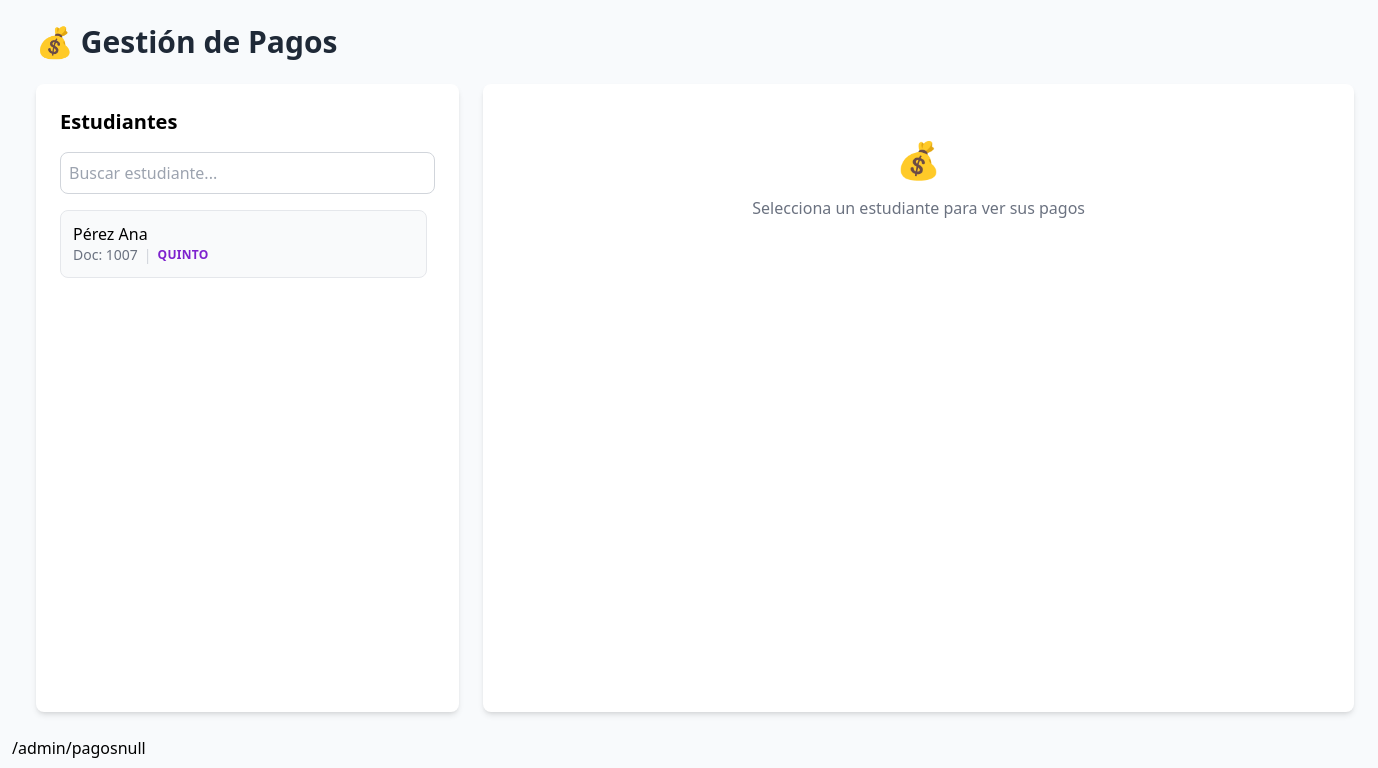
Test case: PagosAdmin - caracterización › Cobrar de una fila abre el formulario debajo de lo que debe y los valores quedan cerrados
Later steps or results of the test are not shown.
Click the text "Pérez Ana": (110, 234) [73,223,148,245]
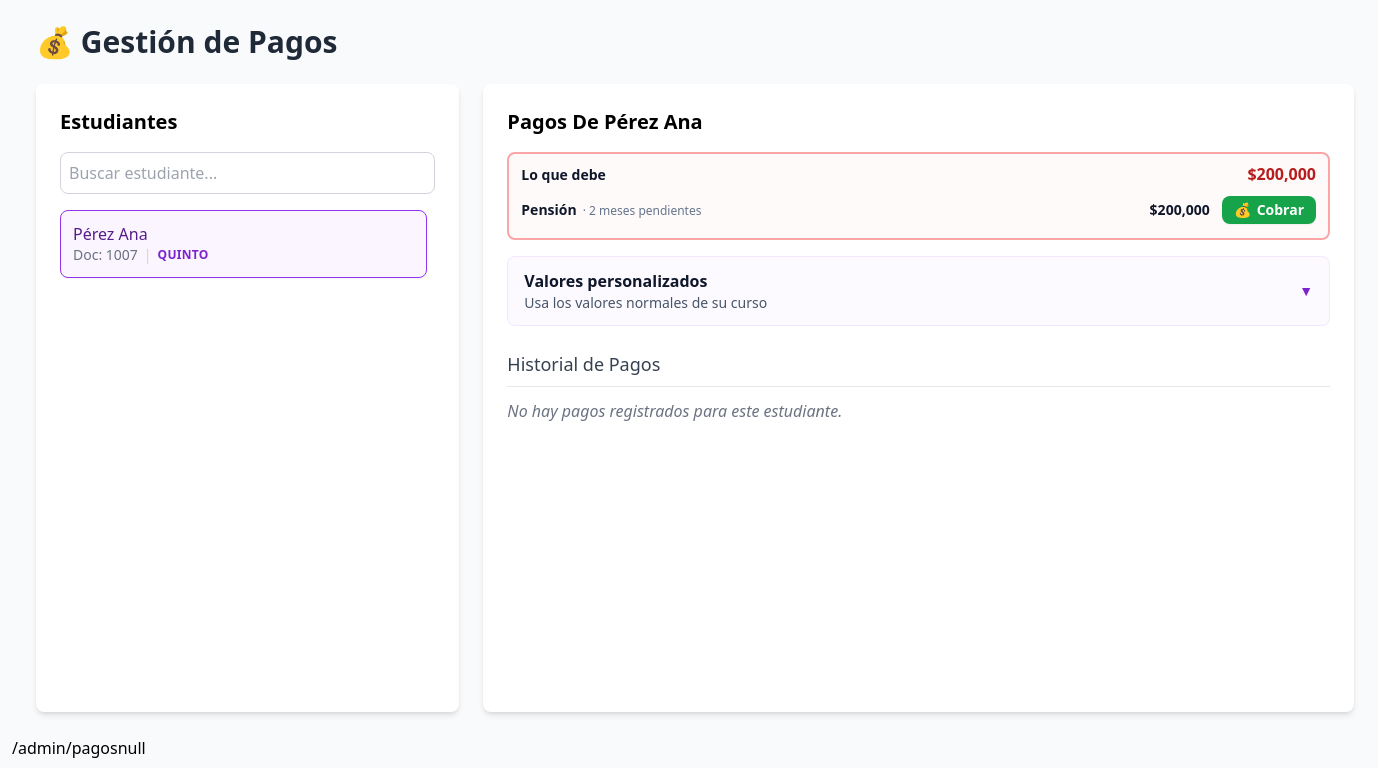
expect the button with aria-label "Cobrar Pensión" is enabled: met, box [1222,196,1316,224]
